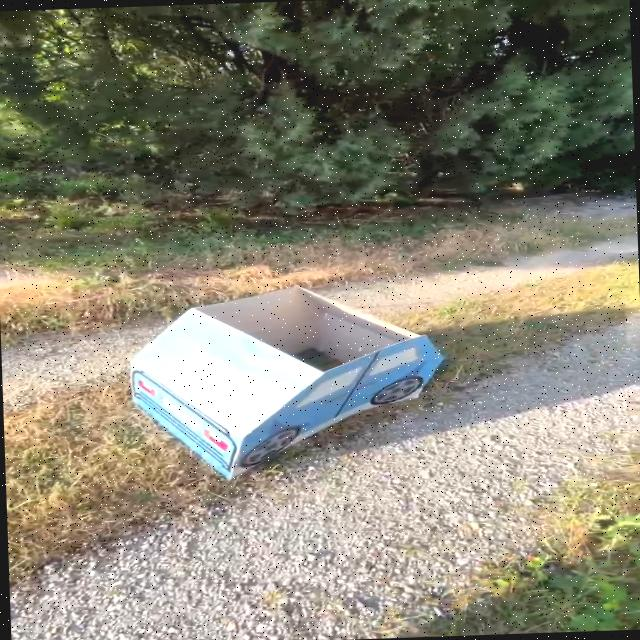blue_car: (91, 254, 493, 497)
